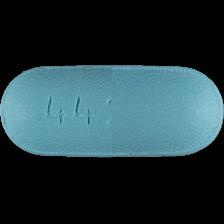50844-235: (0, 0, 224, 224)
